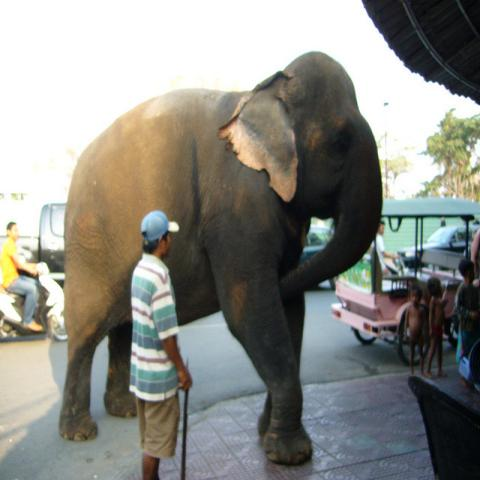car: (398, 225, 479, 267), (300, 228, 336, 290), (38, 204, 66, 280)
motorcycle: (1, 262, 71, 343)
